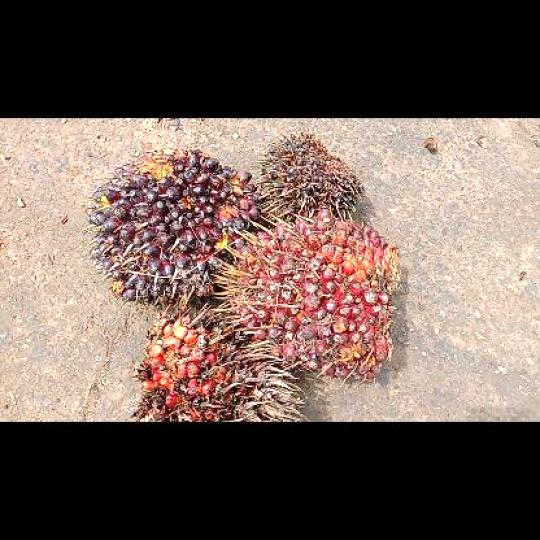kurang masak: (84, 144, 269, 310)
masak: (215, 210, 403, 384)
terlalu masak: (130, 303, 314, 421)
